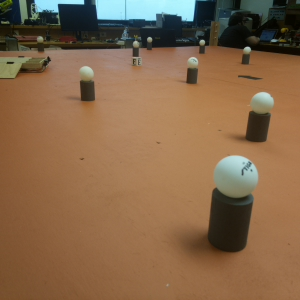blockE: (133, 58, 142, 71)
corner: (211, 22, 218, 48)
obstacle: (207, 156, 261, 256), (246, 92, 278, 145), (78, 66, 97, 104), (185, 58, 198, 86), (241, 46, 253, 67), (37, 37, 47, 53), (129, 41, 140, 55), (199, 39, 205, 57), (147, 38, 153, 51)
side: (22, 57, 52, 77)
slope: (1, 62, 24, 79)
start: (237, 72, 264, 82)
